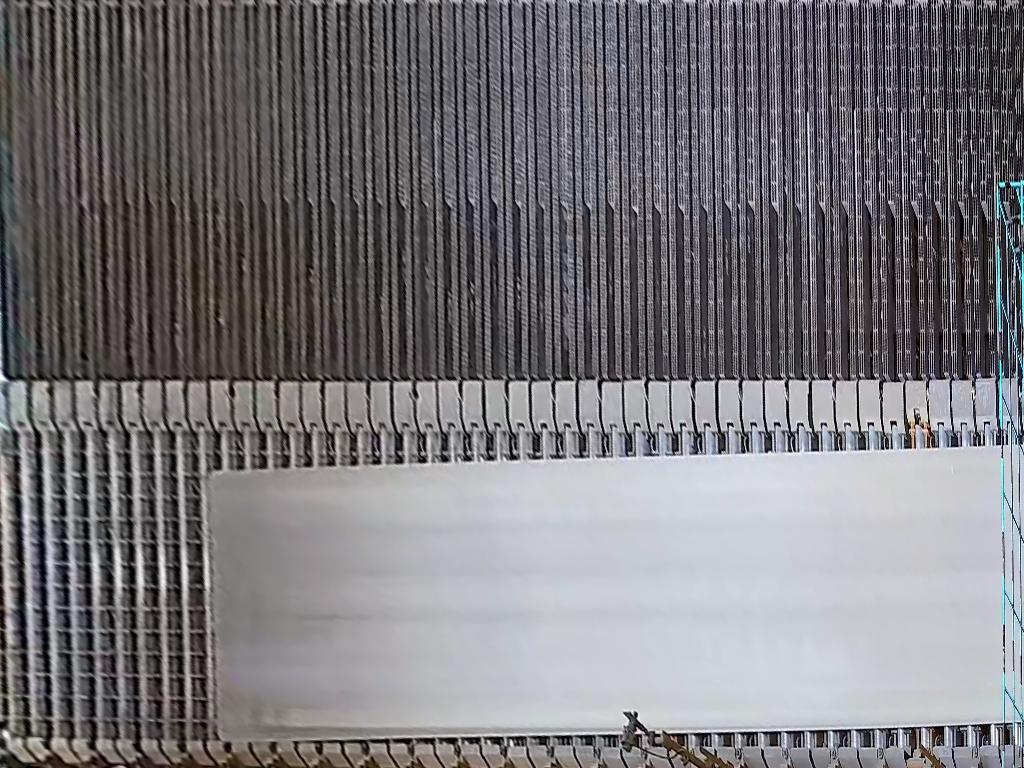steel: (211, 443, 1024, 742)
